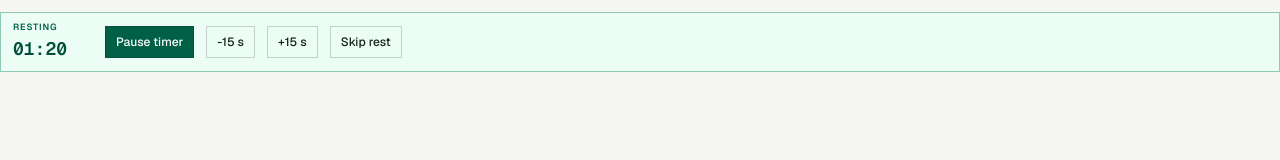
Test: RestTimer auto start › still pauses and resets a running timer
Click the button "Pause timer" at x=150, y=42, box [105,26,194,58]
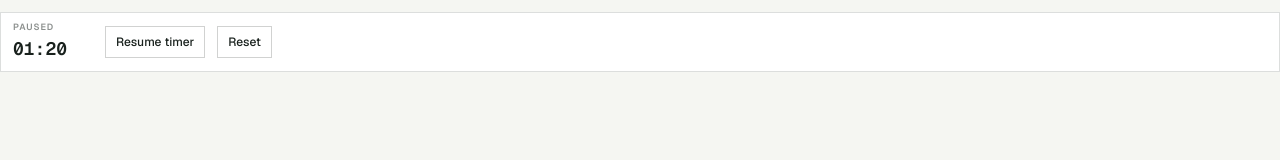
Now the text "Paused" is shown, box [13,21,54,33]
Click the button "Reset" at x=245, y=42, box [217,26,272,58]
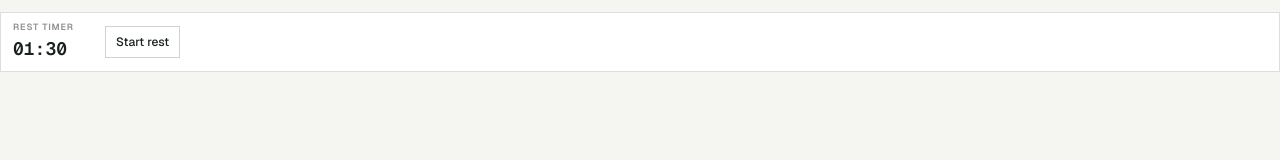
Now the text "01:30" is shown, box [13,36,67,60]
